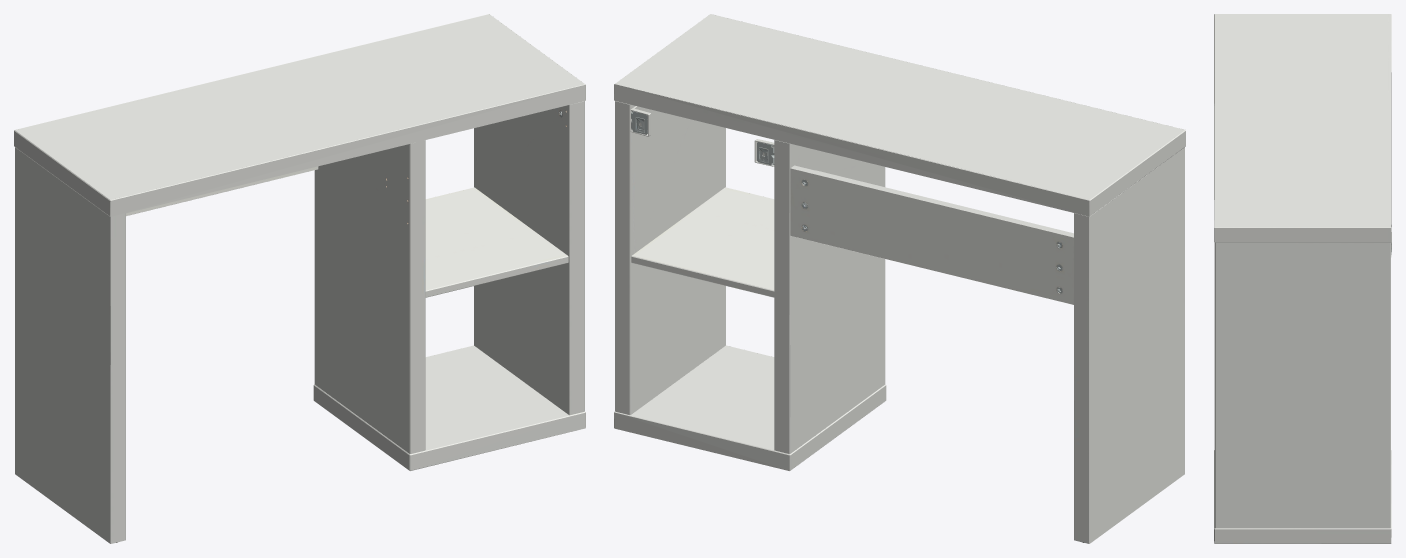
3 renders of one model, left to right at view 1: azimuth 30°, elevation 25°; view 2: azimuth 150°, elevation 25°; view 3: azimuth 270°, elevation 25°, orthographic. The views are drawn at different scales.
Parts seen in each view (by area): view 1: ASY_ART_30582445_S01_NV01_NODE_ID_4f01e4af-2b03-475f-af64-13; view 2: ASY_ART_30582445_S01_NV01_NODE_ID_4f01e4af-2b03-475f-af64-13; view 3: ASY_ART_30582445_S01_NV01_NODE_ID_4f01e4af-2b03-475f-af64-13.
Boxes of the visible parts, x1,y1,x2,y2 form: ASY_ART_30582445_S01_NV01_NODE_ID_4f01e4af-2b03-475f-af64-13: [14, 14, 585, 543]; ASY_ART_30582445_S01_NV01_NODE_ID_4f01e4af-2b03-475f-af64-13: [614, 14, 1185, 543]; ASY_ART_30582445_S01_NV01_NODE_ID_4f01e4af-2b03-475f-af64-13: [1214, 14, 1391, 543].
Size of the model in its own units: 1.11 by 0.77 by 0.39.
1 material, 1 textured.
